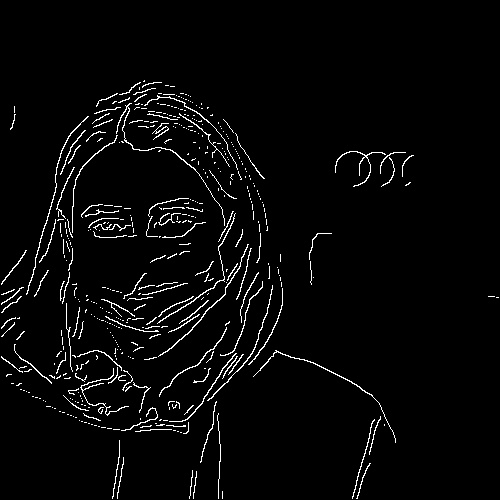mask: (70, 237, 226, 337)
